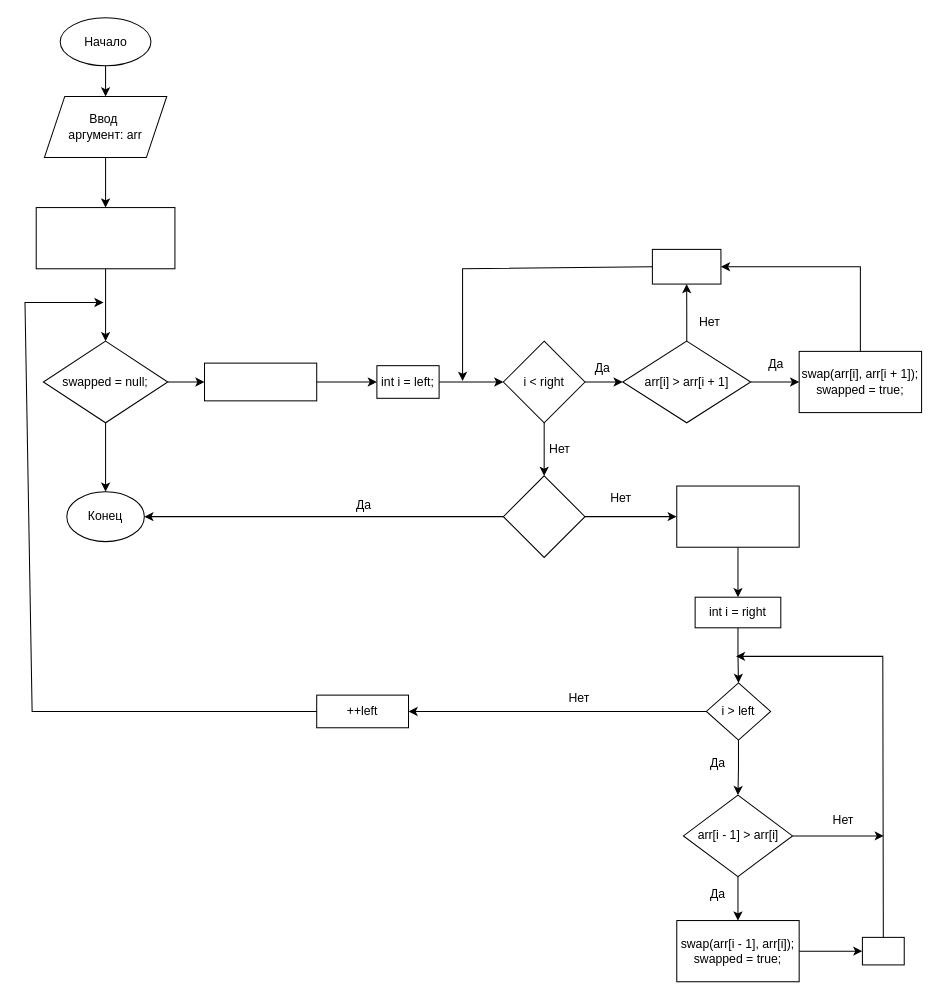
Image size: 939x1000. Some labels were removed from this diagram. Here are the shapes that lost their labels. From the top down, the box of each, then its label:
(35, 207, 175, 269): int left = 0 int right = arr.size() - 1 bool swapped = true
(651, 248, 721, 284): i++
(203, 362, 317, 401): swapped = false
(502, 475, 585, 557): !swapped
(676, 485, 799, 547): swapped = false; --right;
(861, 936, 904, 965): i--
